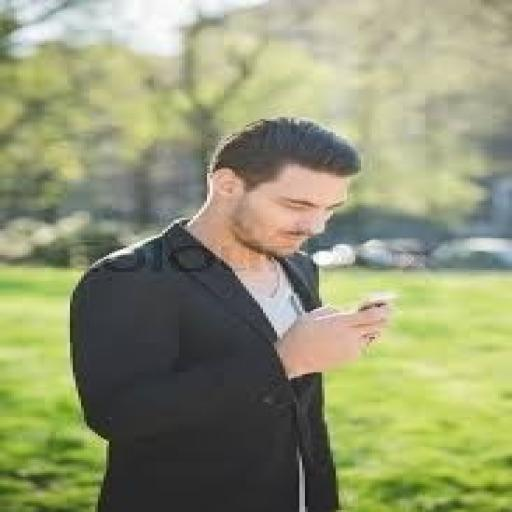texting: (64, 114, 394, 510)
